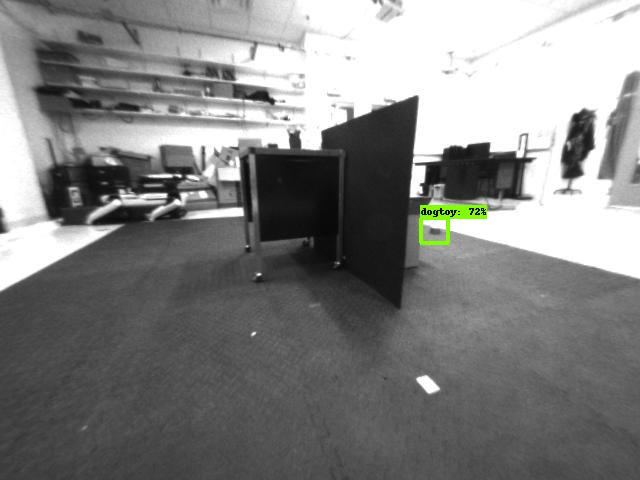dogtoy: (419, 218, 448, 242)
